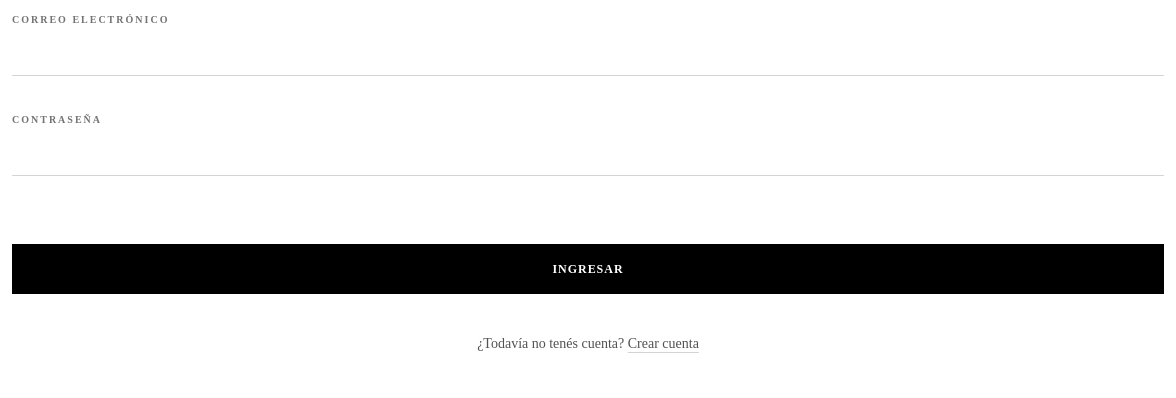
Test: SignInForm: submit › shows the generic server error in an alert and keeps the user on the page
The image size is (1176, 398).
Type "ana@example.com" into the field labelled "Correo electrónico" at x=588, y=52, box x1=12 y1=27 x2=1164 y2=76
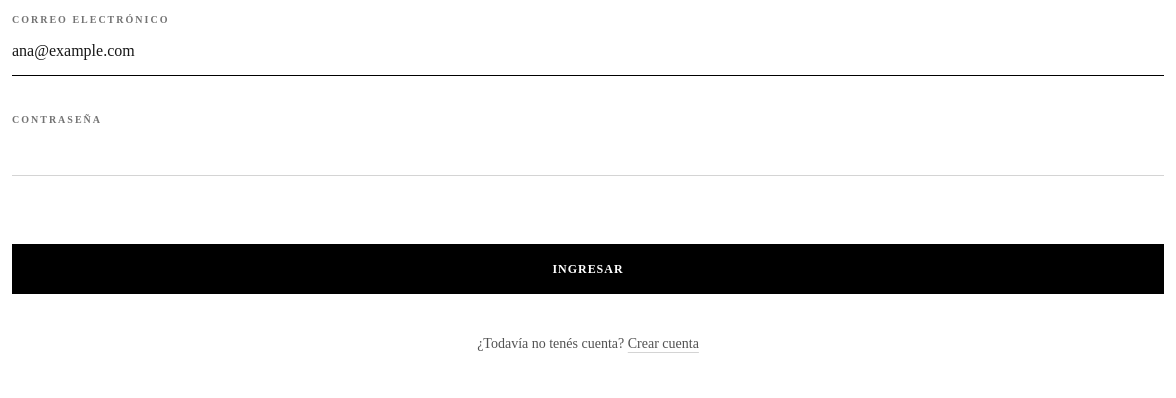
Type "wrong-password" into the password field labelled "Contraseña" at x=588, y=152, box x1=12 y1=127 x2=1164 y2=176
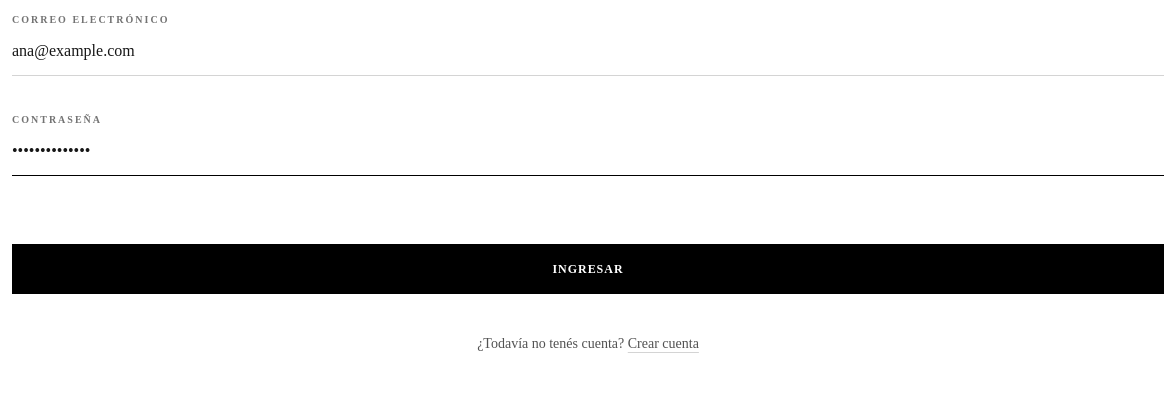
Click the button "Ingresar" at x=588, y=269, box x1=12 y1=244 x2=1164 y2=294
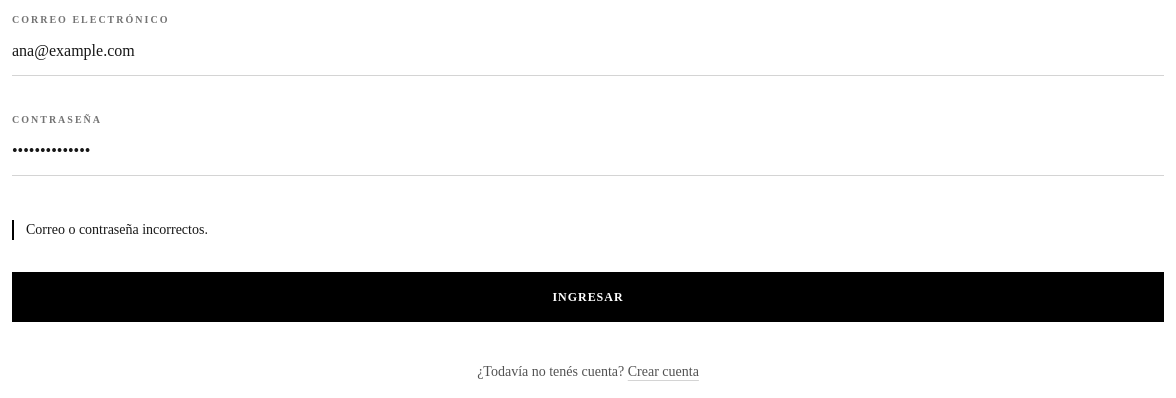
Check: the button "Ingresar" is enabled, box x1=12 y1=272 x2=1164 y2=322
Check: the message reads "Correo o contraseña incorrectos.", box x1=26 y1=222 x2=208 y2=237
